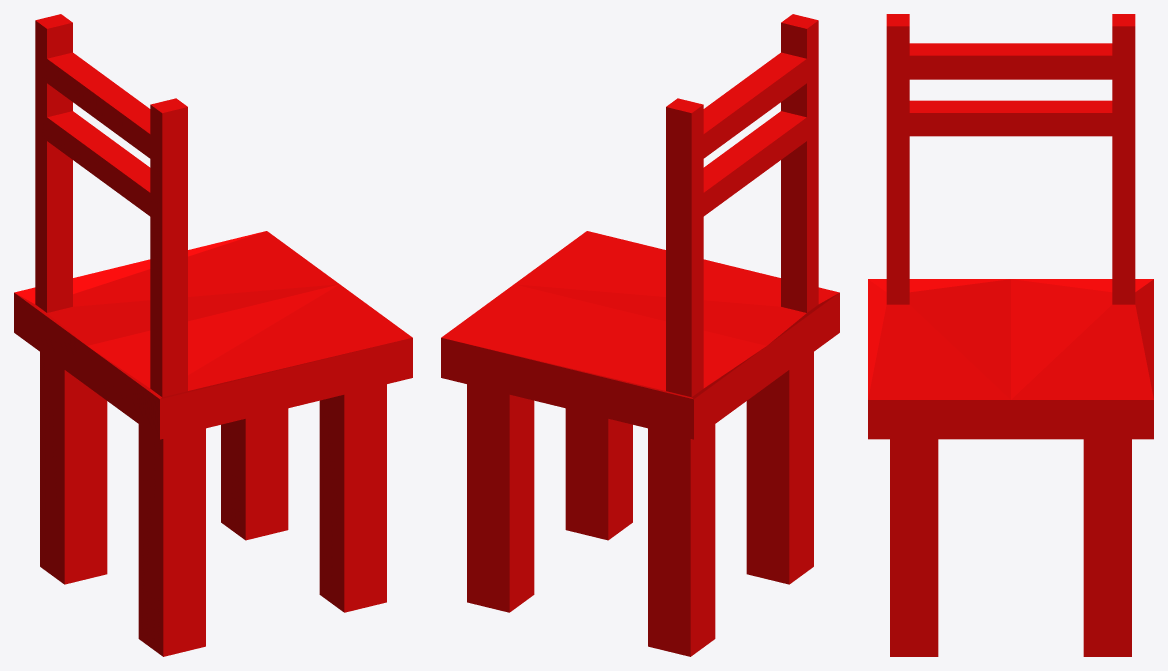
File: chair.obj
3 renders of one model, left to right at view 1: azimuth 30°, elevation 25°; view 2: azimuth 150°, elevation 25°; view 3: azimuth 270°, elevation 25°, orthographic. The views are drawn at different scales.
Visible parts, largest first — view 1: Cube.006_Cube.047; view 2: Cube.006_Cube.047; view 3: Cube.006_Cube.047.
Part boxes in pixels (box(x1,y1,x2,y2)): Cube.006_Cube.047: box(14, 14, 412, 656); Cube.006_Cube.047: box(441, 14, 839, 656); Cube.006_Cube.047: box(868, 14, 1153, 656).
Size of the model in its own units: 0.3056 by 0.6305 by 0.3056.
